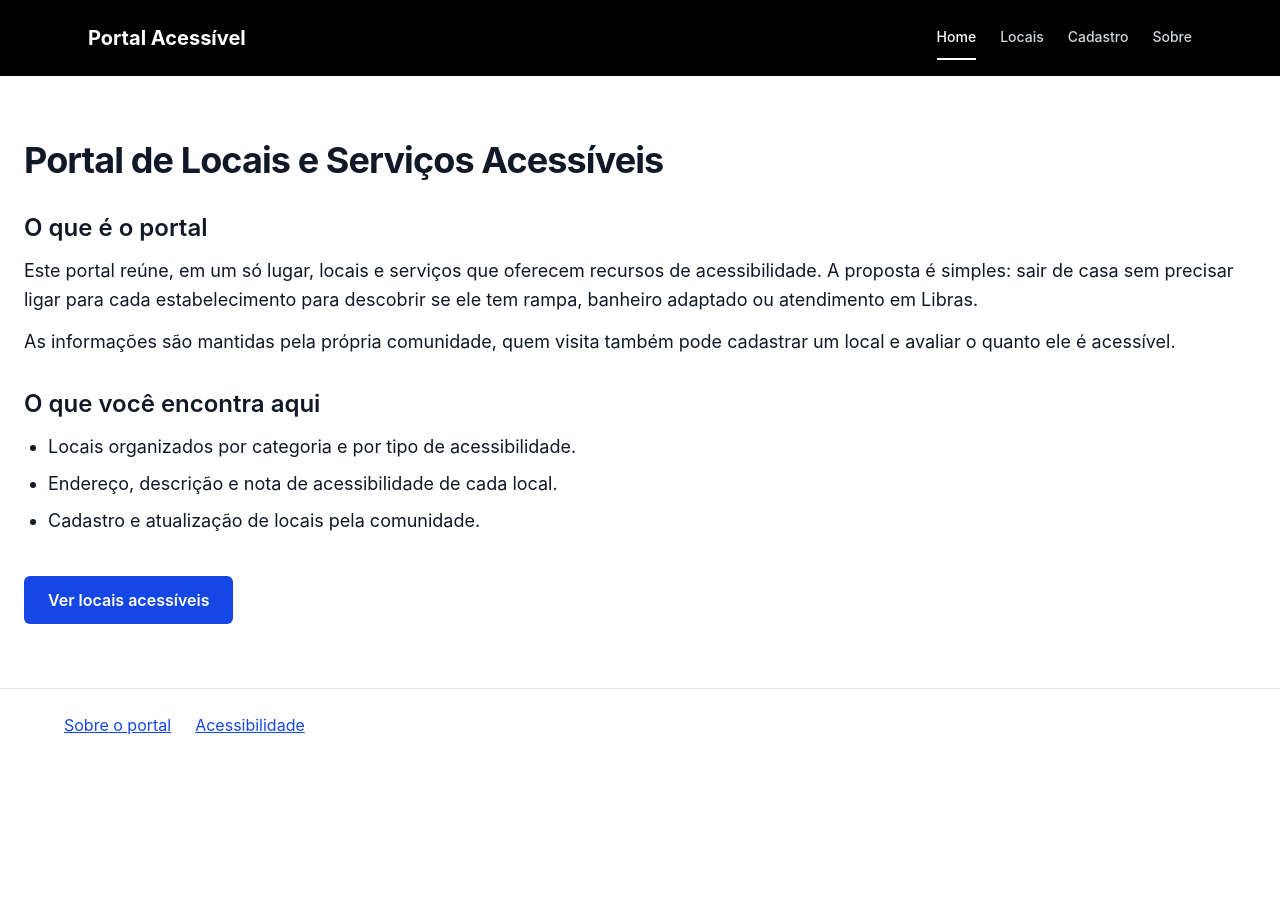
Test: Navegação entre páginas › clicar em "Sobre" troca a página e o link ativo
Click the link "Sobre" at (1172,36), box [1152,28,1192,45]
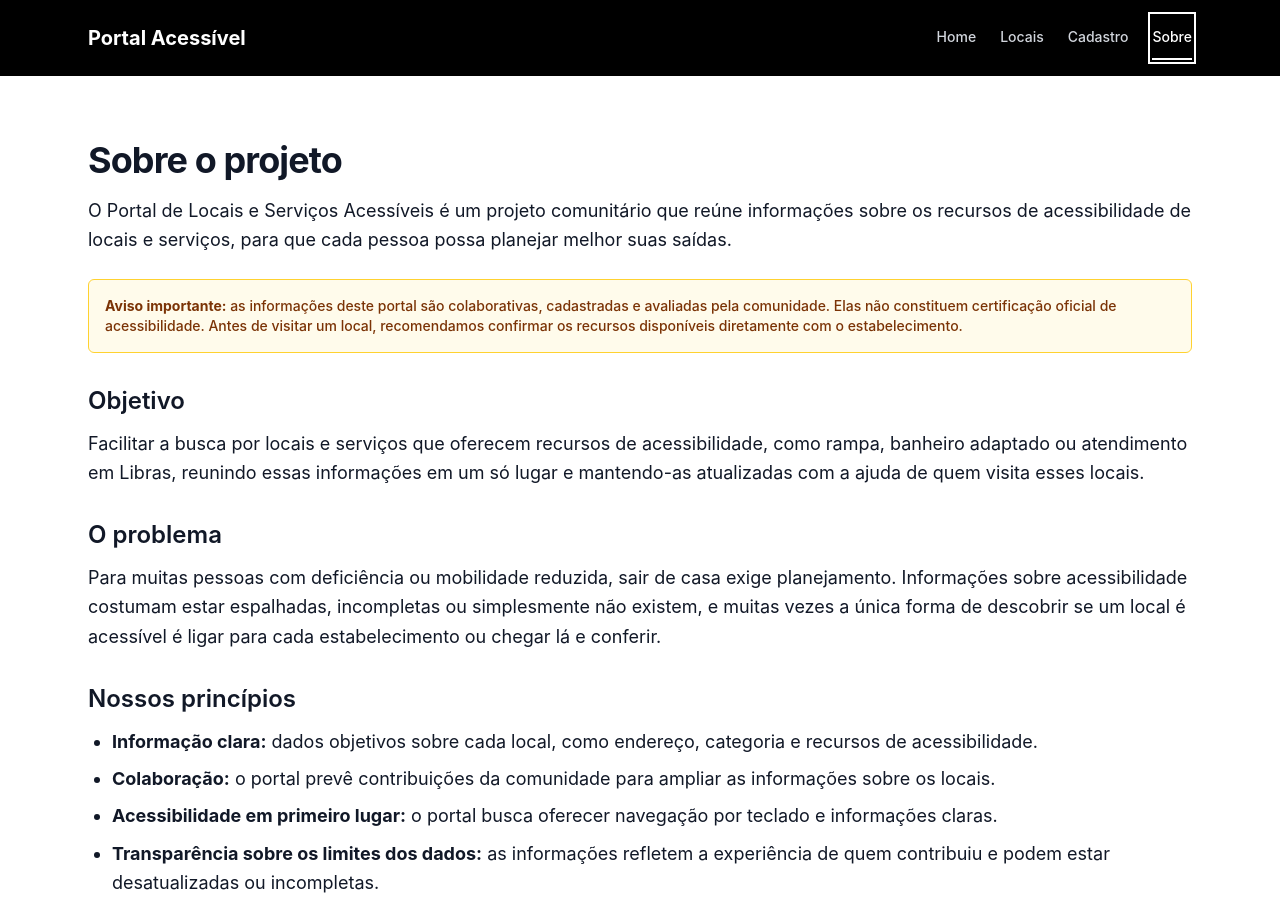
Check: the heading "Sobre o projeto" is shown, box [88,138,342,182]
